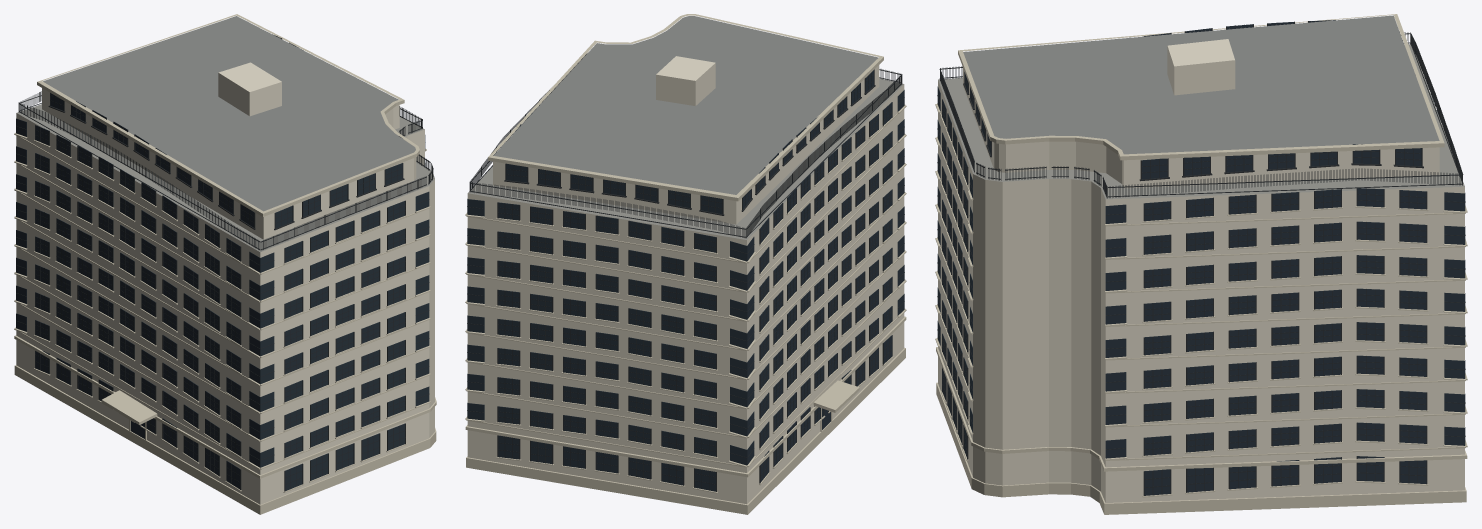
Rendered from princes_gate_59_63.glb.
3 renders of one model, left to right at view 1: azimuth 30°, elevation 25°; view 2: azimuth 150°, elevation 25°; view 3: azimuth 270°, elevation 25°, orthographic. The views are drawn at different scales.
Size of the model in its own units: 32.12 by 35.99 by 43.2.
